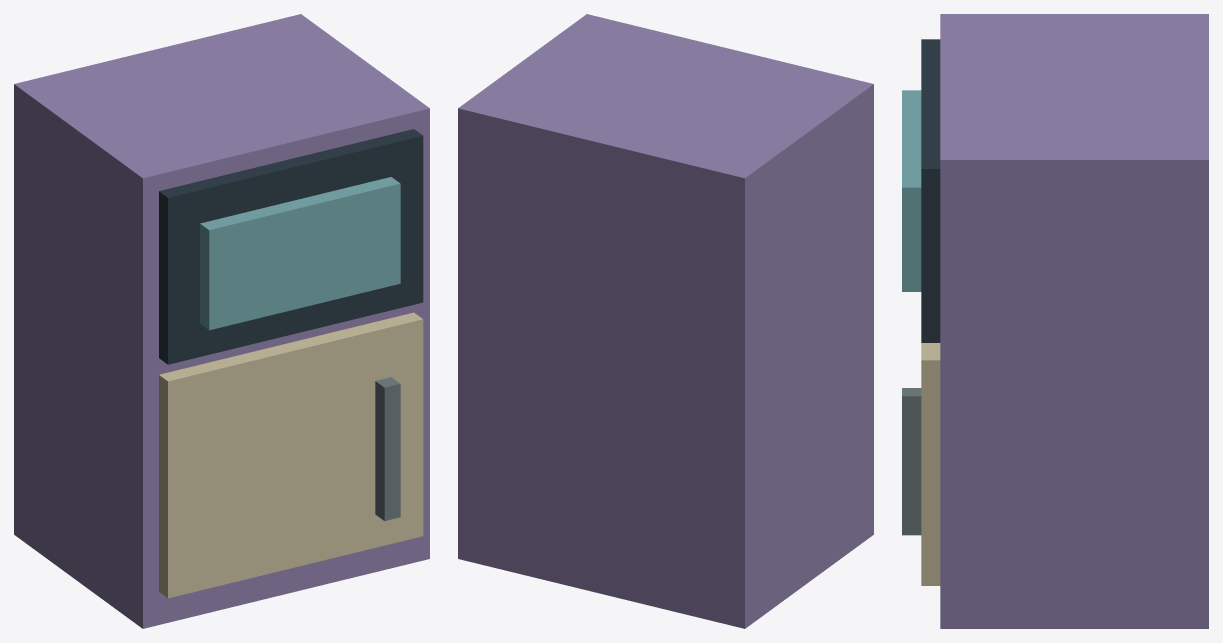
File: social-17.glb
3 renders of one model, left to right at view 1: azimuth 30°, elevation 25°; view 2: azimuth 150°, elevation 25°; view 3: azimuth 270°, elevation 25°, orthographic. The views are drawn at different scales.
Visible parts, largest first — view 1: Photo booth; view 2: Photo booth; view 3: Photo booth.
Boxes of the visible parts, x1,y1,x2,y2 form: Photo booth: (14,14,429,628); Photo booth: (458,14,873,628); Photo booth: (902,14,1208,628).
Bounding box in the file's own units: 1.44 × 2.16 × 1.28.
